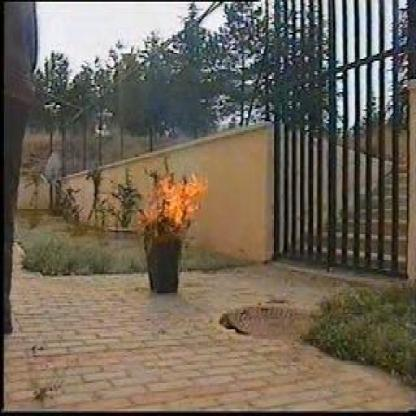foggia-v2-map80-epoch100 - v1 4323: (135, 159, 209, 228)
